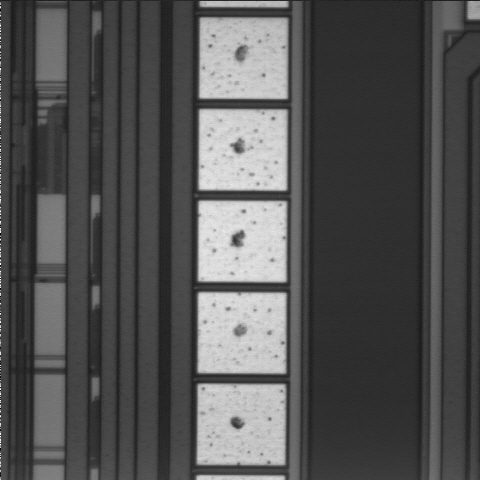pad: (199, 109, 287, 190), (198, 201, 286, 282), (197, 384, 285, 465), (200, 18, 287, 99), (198, 293, 286, 373)
